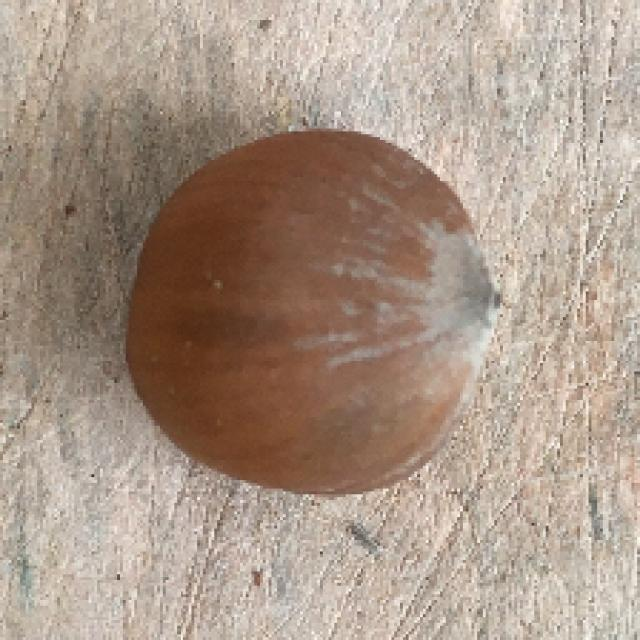qualityHazelnut: (115, 117, 504, 503)
